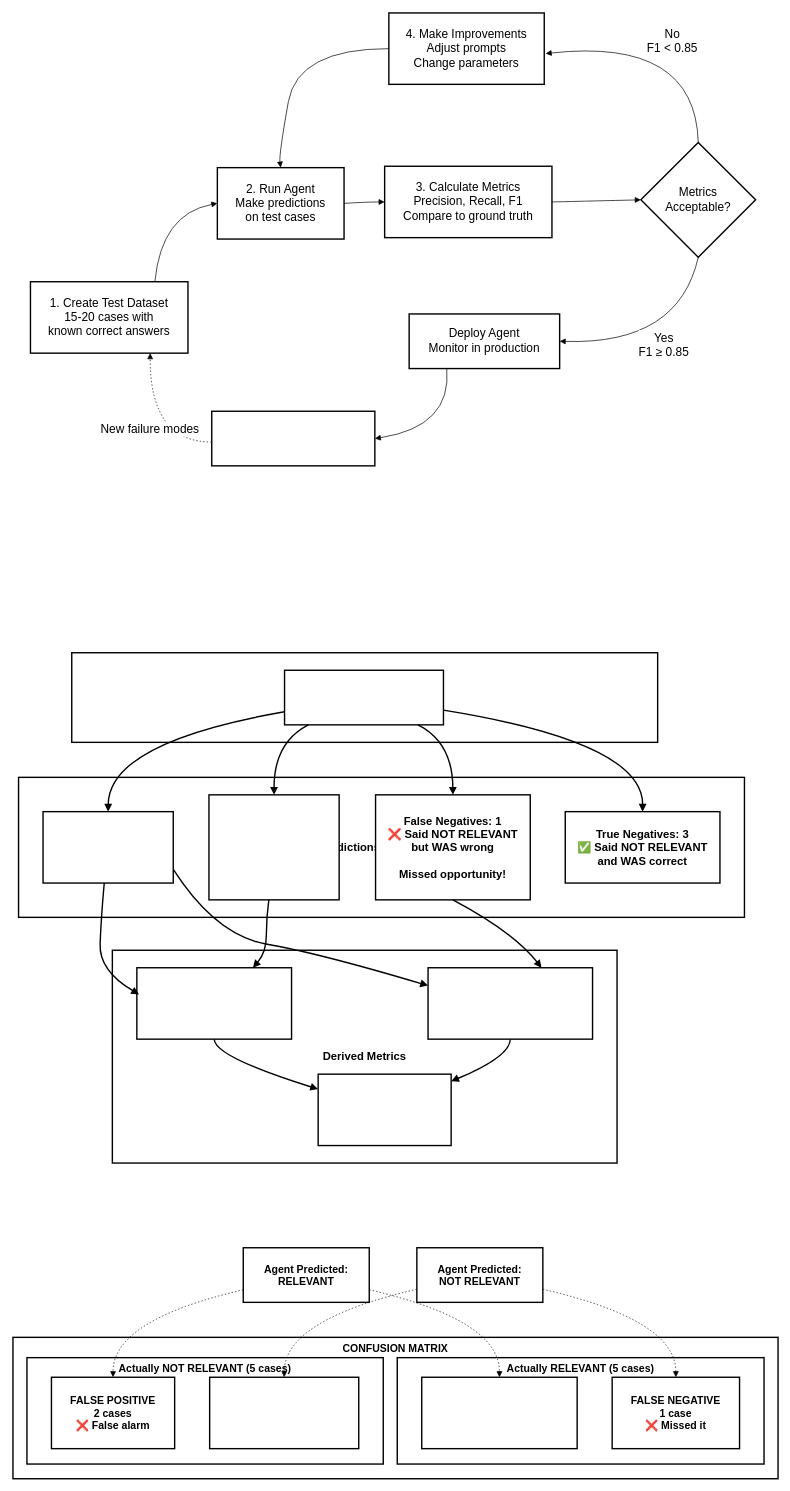
The diagram is 790 pixels wide and 1491 high, and some of its shapes have lost their labels. The shapes that lost their labels are listed below. From the top down, each one's centre as x and y in pixels, then its label:
At [293,438]: "Monitor Production Performance".
At [364,697]: "5 Actually Relevant 5 Actually Not Relevant".
At [108,847]: "True Positives: 4 ✅ Said RELEVANT and WAS correct".
At [274,847]: "False Positives: 2 ❌ Said RELEVANT but WAS wrong Wasted time!".
At [214,1003]: "Precision = 4 / 6 = 67% When agent says YES, how often is it right?".
At [510,1003]: "Recall = 4 / 5 = 80% Of all actual YES cases, how many did we catch?".
At [384,1109]: "F1 Score = 73% Balanced measure of both".
At [284,1412]: "TRUE NEGATIVE 3 cases ✅ Correctly rejected".
At [499,1412]: "TRUE POSITIVE 4 cases ✅ Correctly identified".
